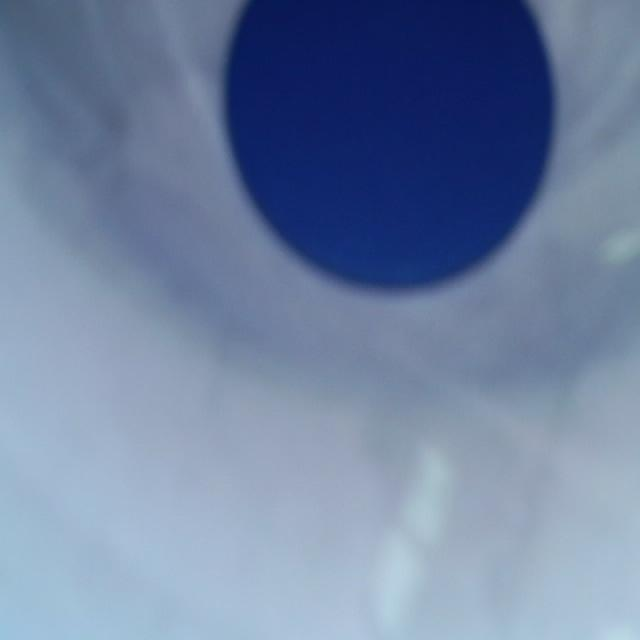circle: (227, 2, 552, 284)
